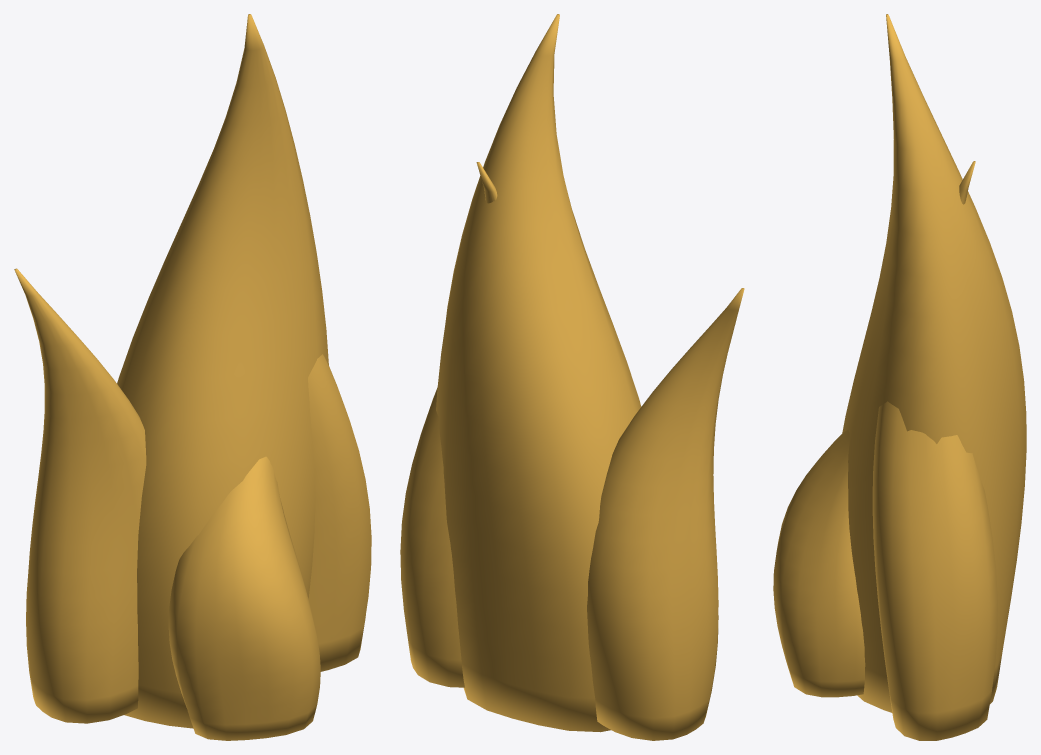
Rendered from FireVolume.fbx.
3 renders of one model, left to right at view 1: azimuth 30°, elevation 25°; view 2: azimuth 150°, elevation 25°; view 3: azimuth 270°, elevation 25°, orthographic. The views are drawn at different scales.
Visible parts, largest first — view 1: FlameBody, FlameLeft, FlameFront, FlameRight; view 2: FlameBody, FlameLeft, FlameRight; view 3: FlameBody, FlameRight, FlameFront.
Part boxes in pixels (box(x1,y1,x2,y2)): FlameBody: box(117, 14, 328, 728); FlameLeft: box(14, 268, 146, 723); FlameFront: box(168, 456, 320, 740); FlameRight: box(308, 354, 371, 671); FlameBody: box(436, 14, 641, 732); FlameLeft: box(587, 288, 744, 740); FlameRight: box(400, 162, 497, 687); FlameBody: box(842, 14, 1026, 712); FlameRight: box(872, 161, 997, 740); FlameFront: box(773, 430, 865, 697).
Bounding box in the file's own units: 46.18 × 87 × 29.5.
